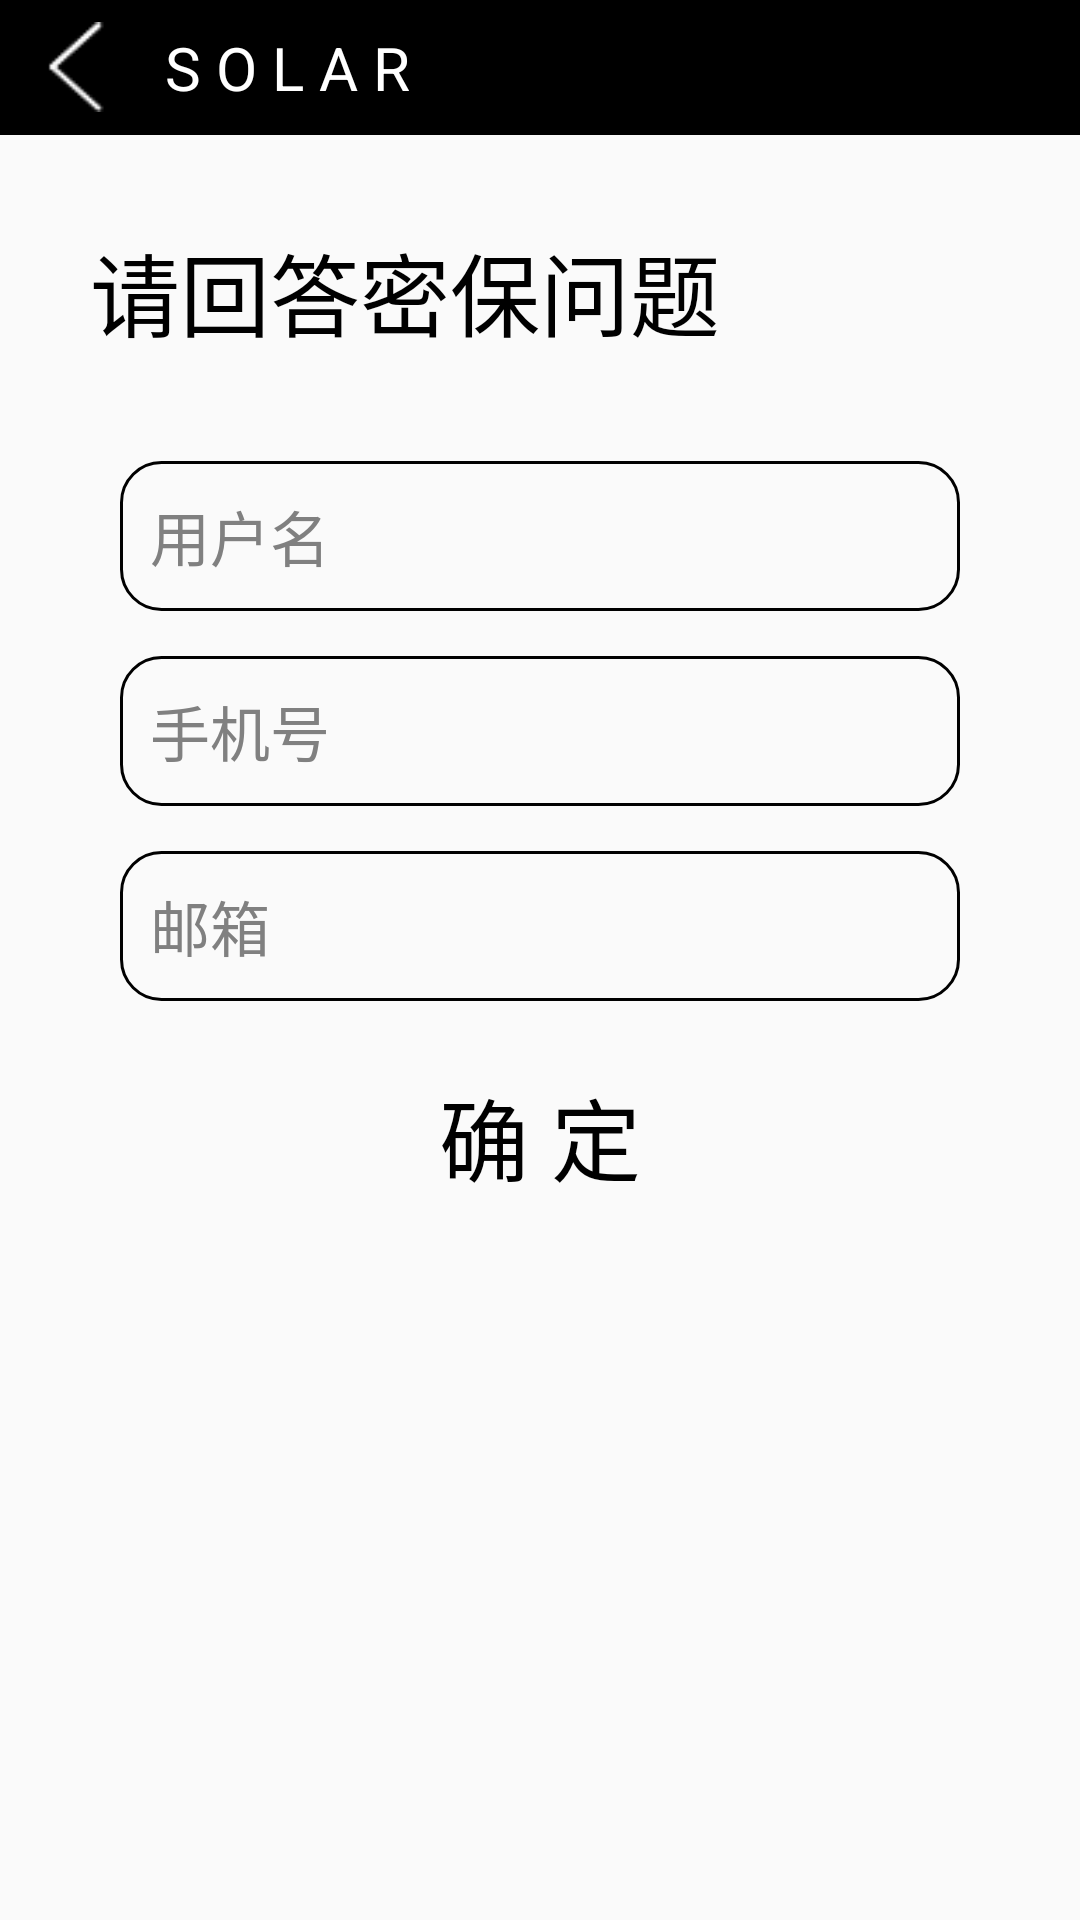

Icons on this 1080*1920 Android screen, each with the point to tap as (x,y):
left: (76,67)
